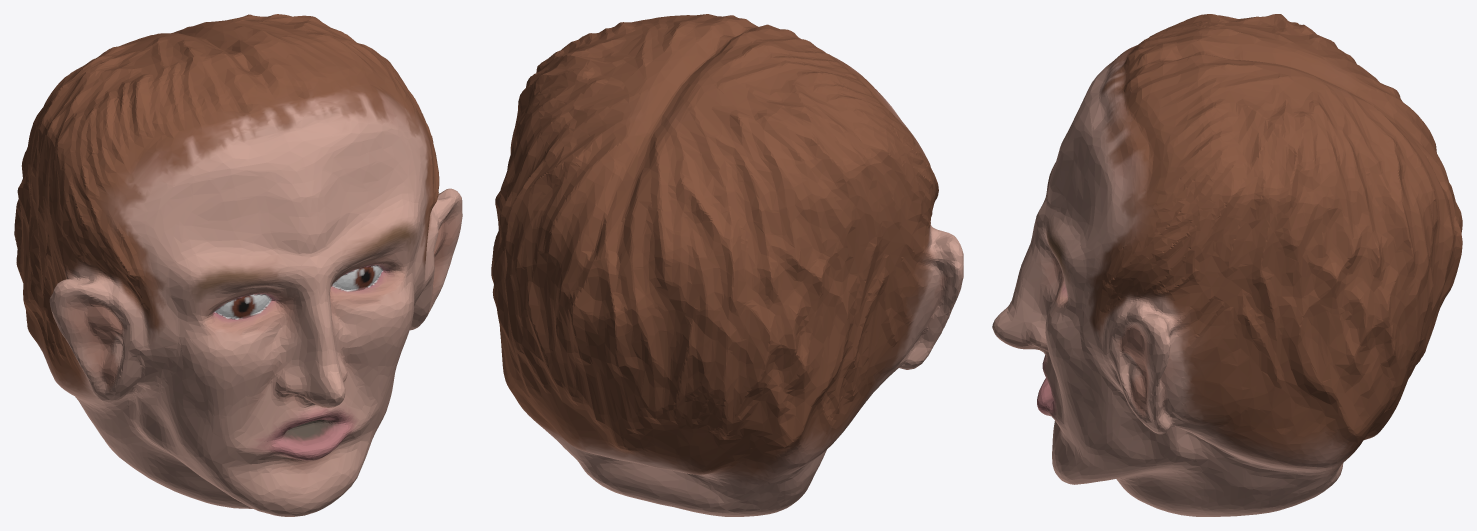
The model's file is zucknormal.glb.
3 views of the same model, side by side, from view 1: azimuth 30°, elevation 25°; view 2: azimuth 150°, elevation 25°; view 3: azimuth 270°, elevation 25° (orthographic). The views are drawn at different scales.
Parts seen in each view (by area): view 1: Sphere; view 2: Sphere; view 3: Sphere.
Boxes of the visible parts, x1,y1,x2,y2 form: Sphere: (14,14,462,516); Sphere: (491,14,963,516); Sphere: (992,14,1462,516).
Bounding box in the file's own units: 1 × 1.03 × 0.9736.
